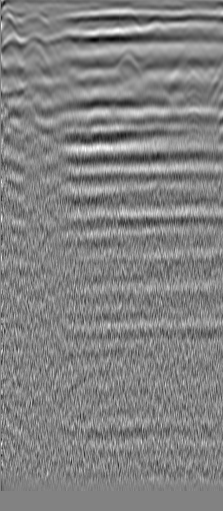오수: (24, 29, 44, 49)
우수: (171, 42, 191, 62)
